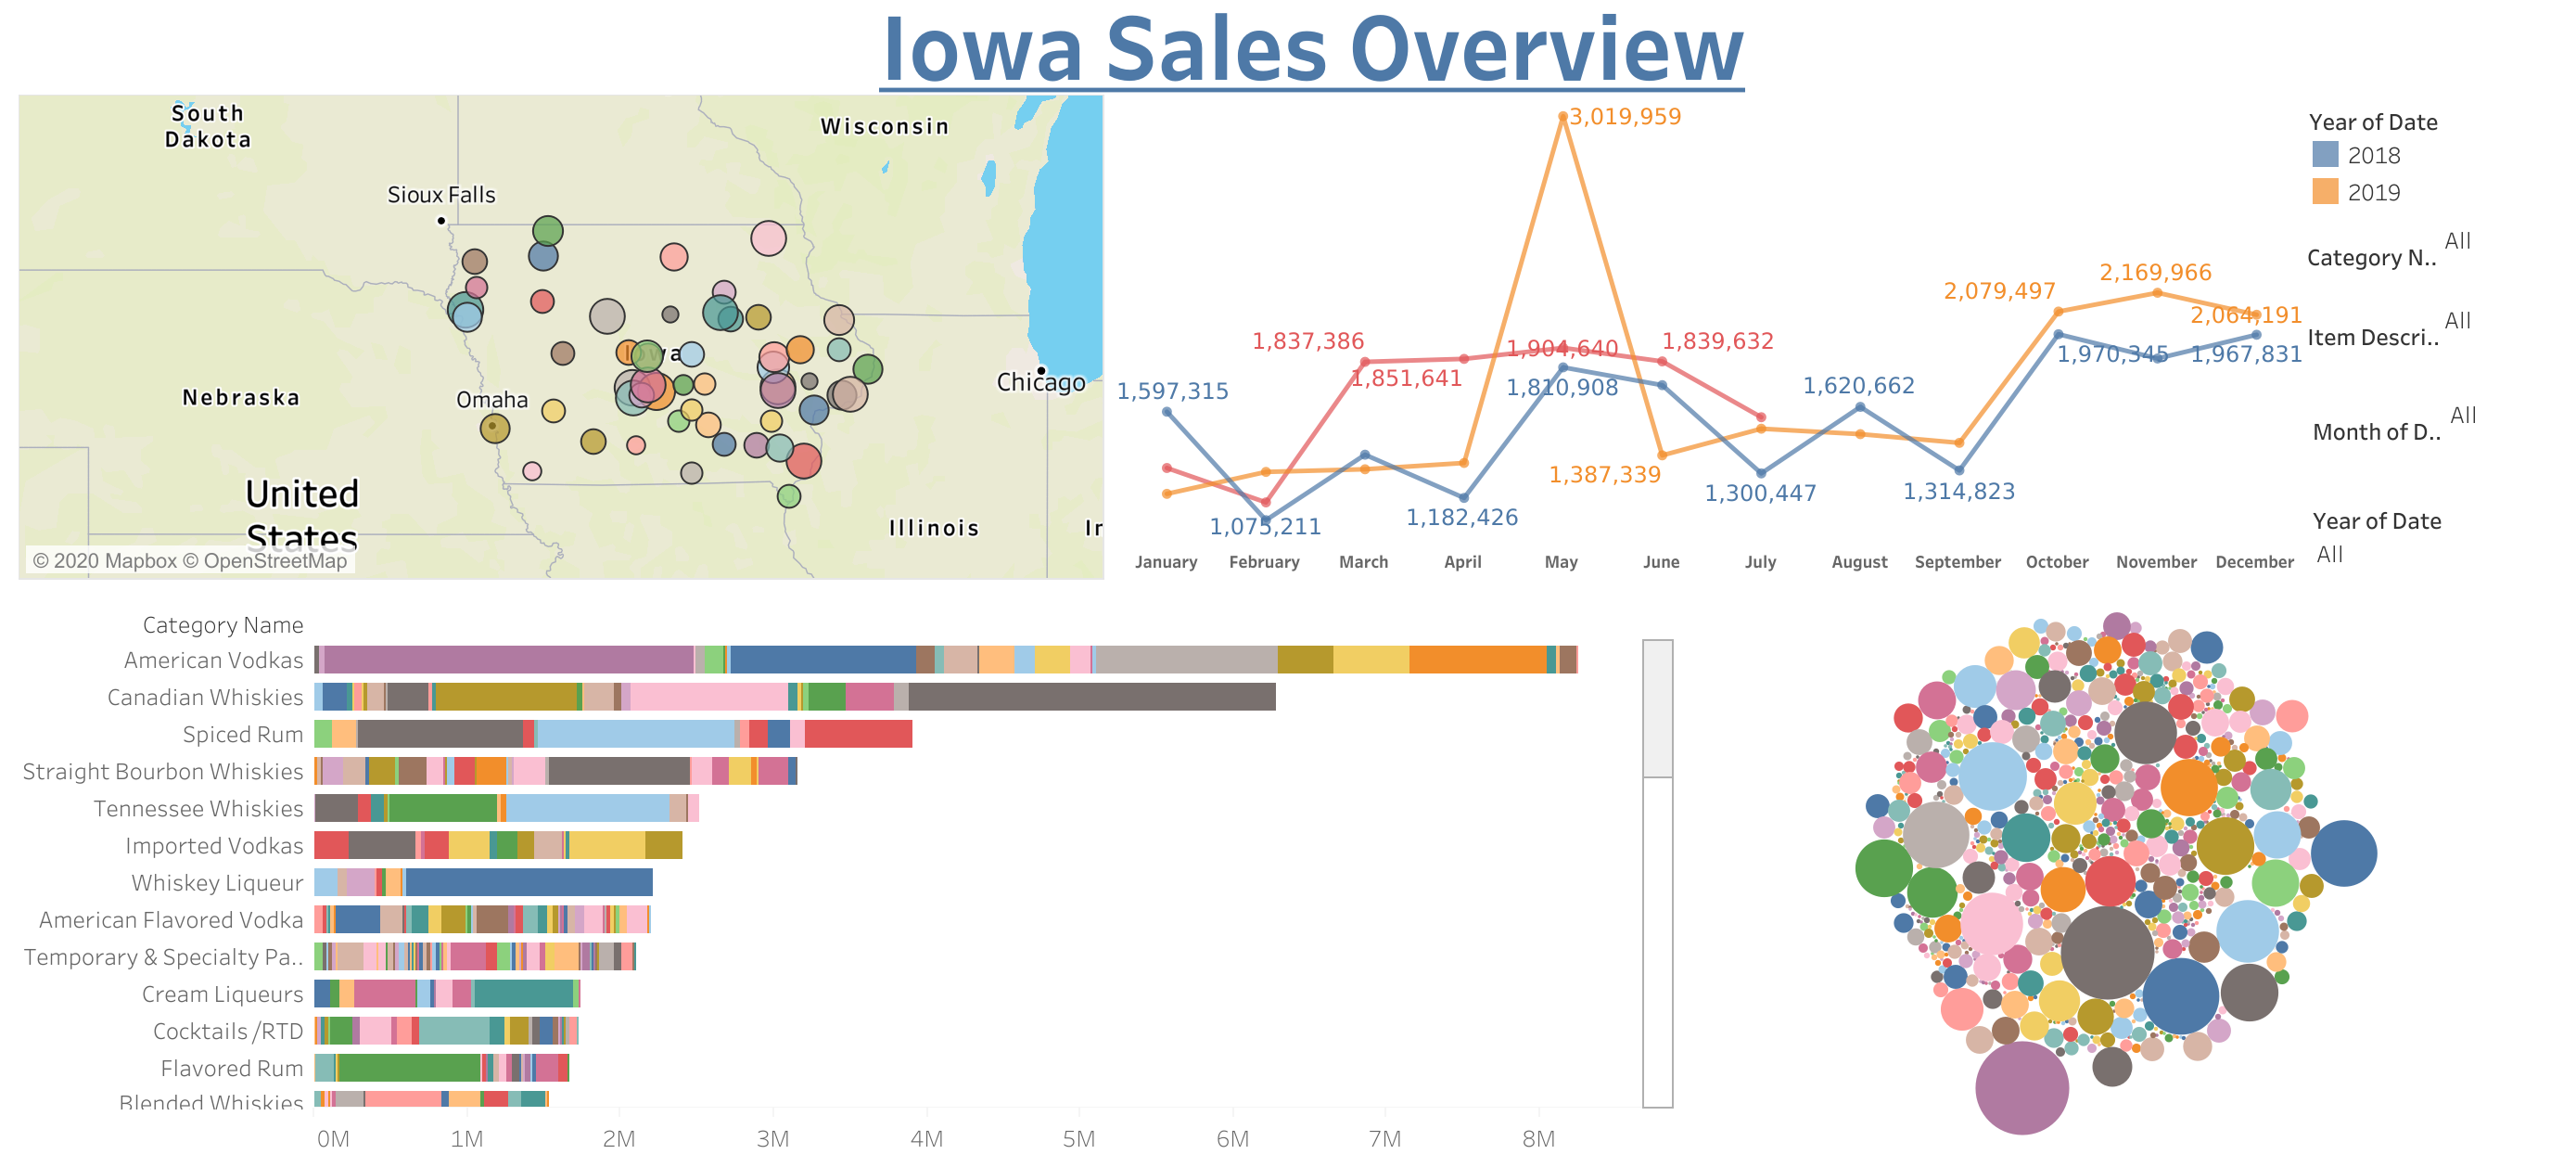

The page's visual inventory and layout, read from the dashboard file:
{"tool":"tableau","page":{"name":"Dashboard 1","canvas":[1000,1000],"units":"permille","ordinal":0},"visuals":[{"type":"worksheet","title":"Sales_Month_Year","mark":"Automatic","rows":["sale_dollars"],"cols":["date"],"box":[432.9,79.2,461.4,415.8]},{"type":"worksheet","title":"GEO","mark":"Automatic","box":[7.3,80.5,421.5,417.1]},{"type":"worksheet","title":"Sales_Month_Year","mark":"Automatic","rows":["sale_dollars"],"cols":["date"],"param":"[federated.1tauzxj193c2hd10bppdr13nkt9c].[yr:date:ok]","box":[895,85.4,74.9,99]},{"type":"worksheet","title":"Item_Month_Sales","mark":"Circle","param":"[federated.1tauzxj193c2hd10bppdr13nkt9c].[none:category_name:nk]","box":[895,190.6,100.9,55.7]},{"type":"worksheet","title":"Sales_Month_Year","mark":"Automatic","rows":["sale_dollars"],"cols":["date"],"param":"[federated.1tauzxj193c2hd10bppdr13nkt9c].[none:item_description:nk]","box":[895,258.7,99.3,56.9]},{"type":"worksheet","title":"Item_Month_Sales","mark":"Circle","param":"[federated.1tauzxj193c2hd10bppdr13nkt9c].[mn:date:ok]","box":[897.5,340.4,99.3,55.7]},{"type":"worksheet","title":"Item_Month_Sales","mark":"Circle","param":"[federated.1tauzxj193c2hd10bppdr13nkt9c].[yr:date:ok]","box":[897.5,428.2,99.3,63.1]},{"type":"worksheet","title":"Breakdown_Cat_Item","mark":"Automatic","rows":["category_name"],"cols":["sale_dollars"],"box":[6.5,515.3,642.8,479.6]},{"type":"worksheet","title":"Item_Month_Sales","mark":"Circle","box":[660.7,522.9,320.6,447.8]}]}

Visuals, with their boxes on the dashboard's canvas, which has no fixed pixel size, in thousandths of its width and height (x1, y1, x2, y2). These are canvas units, not pixel positions in the 2576x1167 screenshot, which may show the page scaled, cropped or inside an application window:
"Sales_Month_Year" worksheet: BBox(433, 79, 894, 495)
"GEO" worksheet: BBox(7, 80, 429, 498)
"Sales_Month_Year" worksheet: BBox(895, 85, 970, 184)
"Item_Month_Sales" worksheet (Circle marks): BBox(895, 191, 996, 246)
"Sales_Month_Year" worksheet: BBox(895, 259, 994, 316)
"Item_Month_Sales" worksheet (Circle marks): BBox(898, 340, 997, 396)
"Item_Month_Sales" worksheet (Circle marks): BBox(898, 428, 997, 491)
"Breakdown_Cat_Item" worksheet: BBox(6, 515, 649, 995)
"Item_Month_Sales" worksheet (Circle marks): BBox(661, 523, 981, 971)
